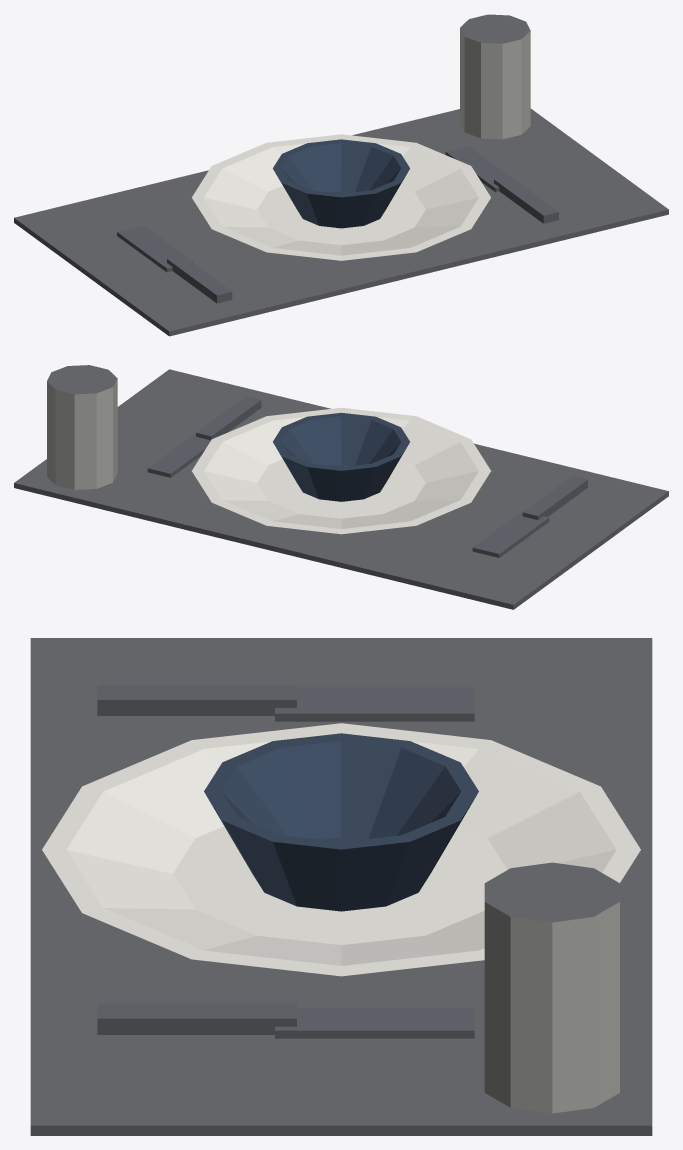
File: FN_Setting_Place.obj
The picture shows the model from 3 angles, top to bottom: view 1: azimuth 30°, elevation 25°; view 2: azimuth 150°, elevation 25°; view 3: azimuth 270°, elevation 25°; orthographic projection. The views are drawn at different scales.
Visible parts, largest first — view 1: FN_Setting_Place; view 2: FN_Setting_Place; view 3: FN_Setting_Place.
Boxes of the visible parts, x1=… form: FN_Setting_Place: x1=14, y1=14, x2=668, y2=336; FN_Setting_Place: x1=14, y1=365, x2=668, y2=609; FN_Setting_Place: x1=30, y1=638, x2=652, y2=1135.
Size of the model in its own units: 0.52 by 0.1 by 0.28.
1 material, 1 textured.
